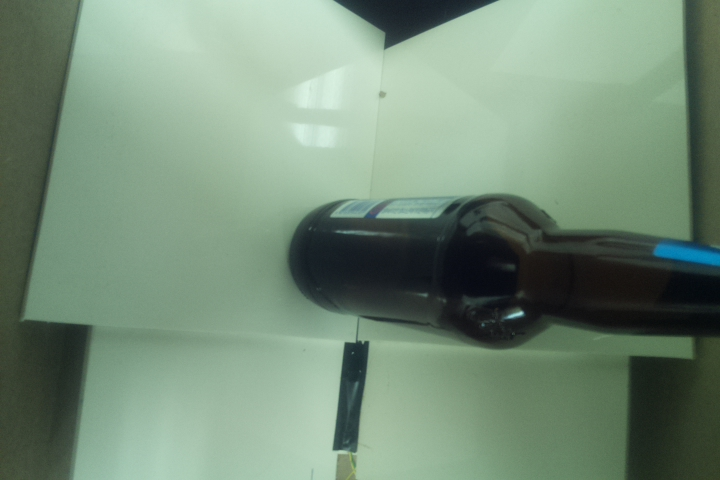makju: (287, 191, 720, 351)
